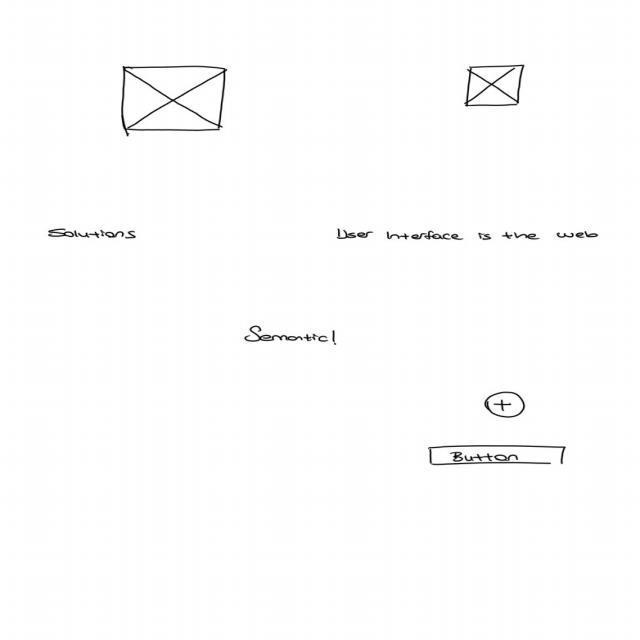button: (427, 445, 569, 467)
icon-button: (485, 392, 527, 421)
image: (119, 66, 229, 136), (464, 64, 528, 108)
label: (335, 227, 601, 243), (243, 324, 341, 348), (46, 226, 138, 242)
